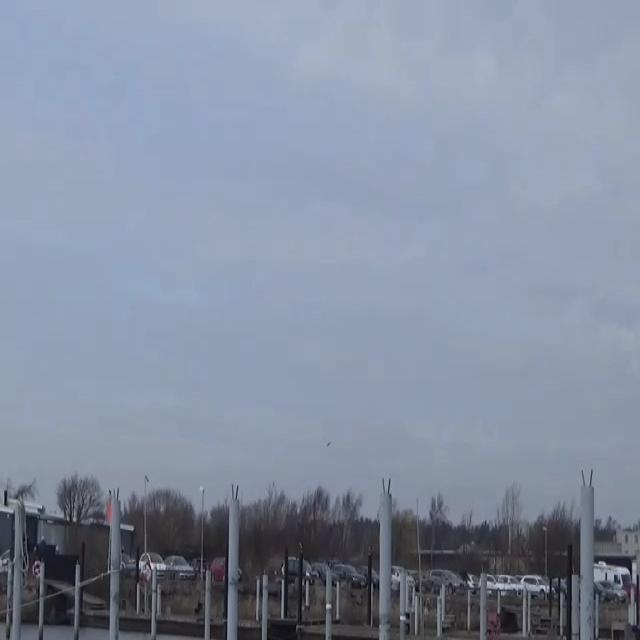bird: (324, 439, 333, 450)
